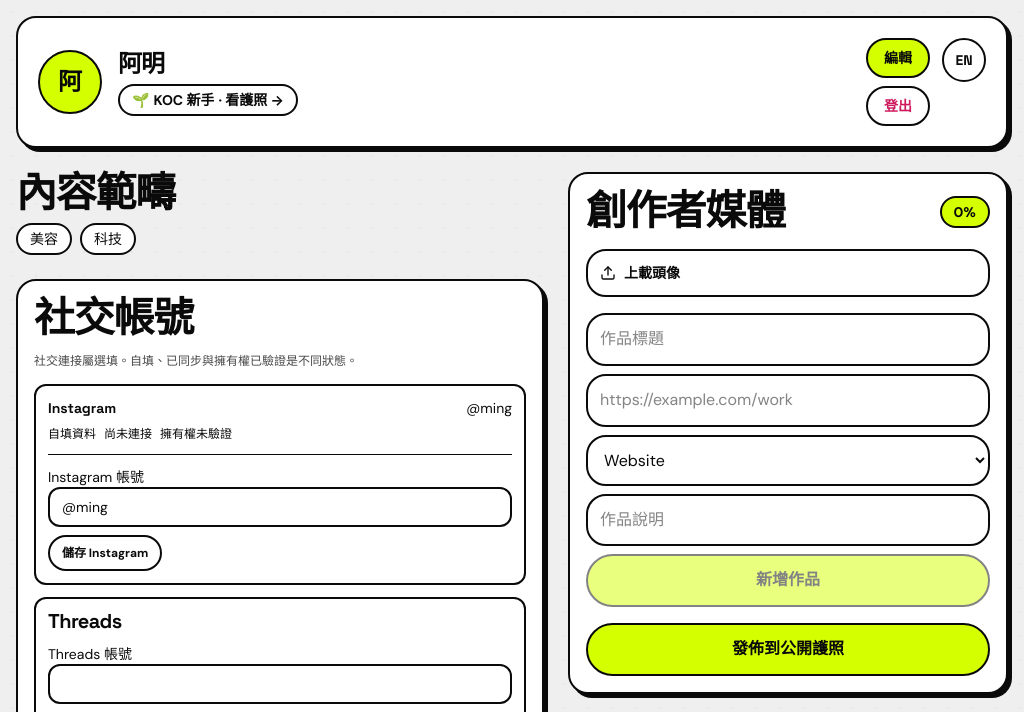
Scenario: Profile page › reveals edit inputs when 編輯 is tapped
The width and height of the screenshot is (1024, 712).
Click the button "編輯".
click(898, 58)  # box top-left (866, 38), bottom-right (930, 78)
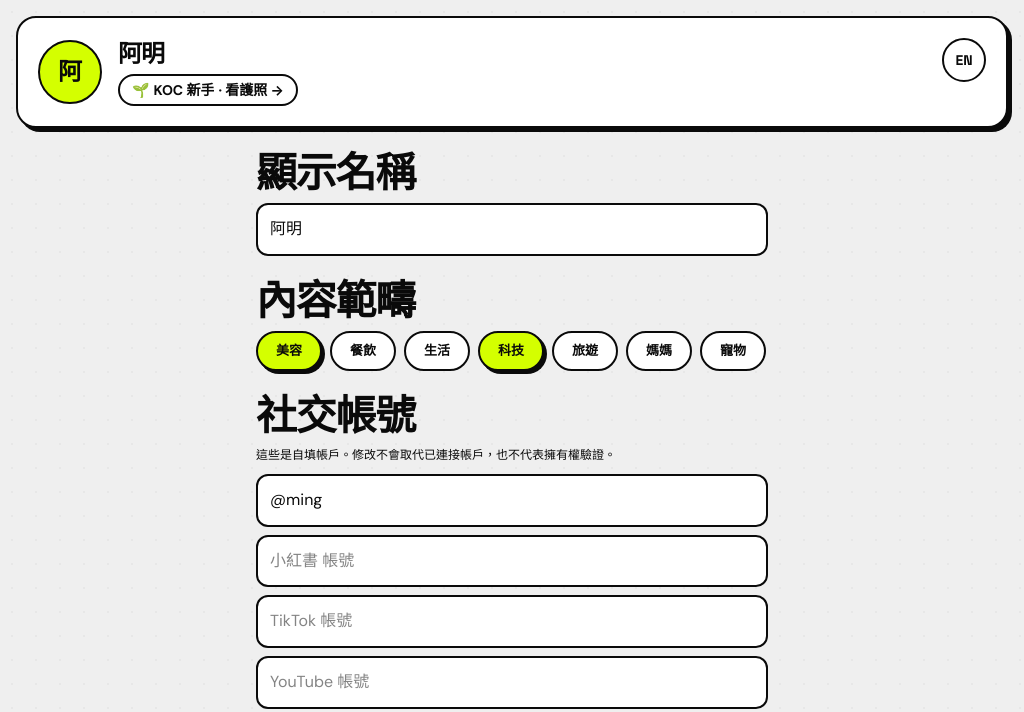
Expected: the field named "顯示名稱" is shown, top-left (256, 203), bottom-right (768, 256)
Expected: the field named "Instagram 帳號" is shown, top-left (256, 474), bottom-right (768, 526)
